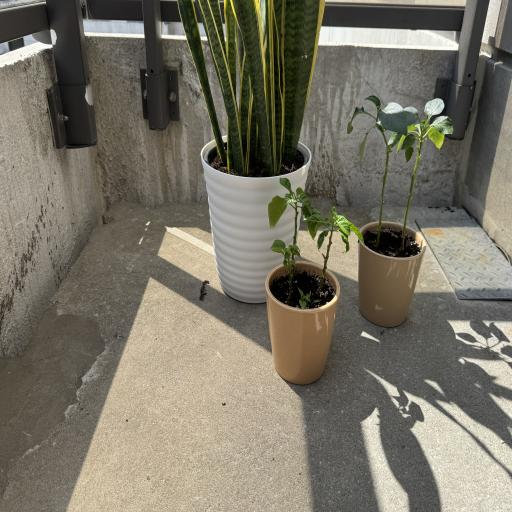Plant Pot: (200, 132, 308, 298), (263, 260, 341, 386), (357, 219, 425, 328)
